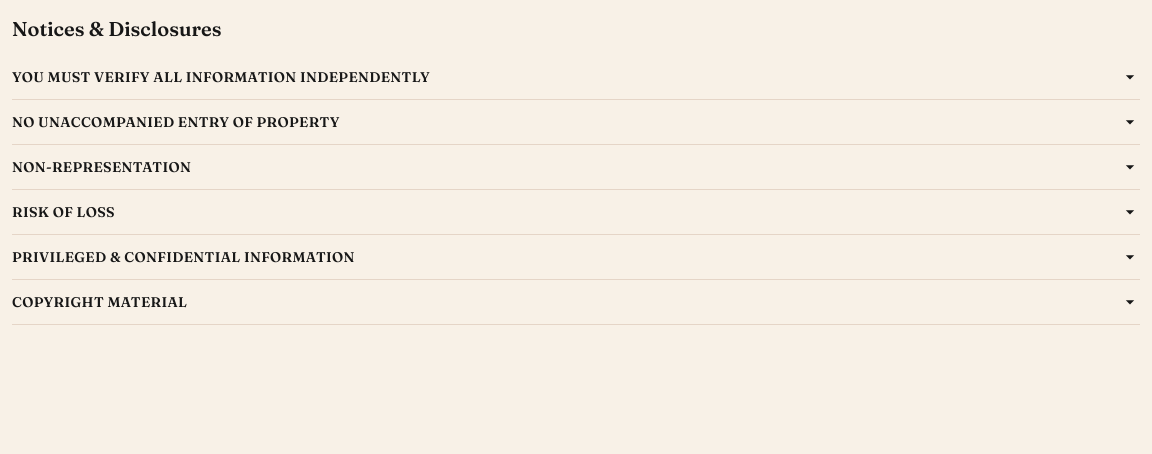
Test: deal notices start closed, open on click, and have no acknowledge control
Expected: the heading "Notices & Disclosures" is shown, [12, 16, 222, 41]
Click the button "YOU MUST VERIFY ALL INFORMATION INDEPENDENTLY": (221, 77) [12, 55, 1140, 99]
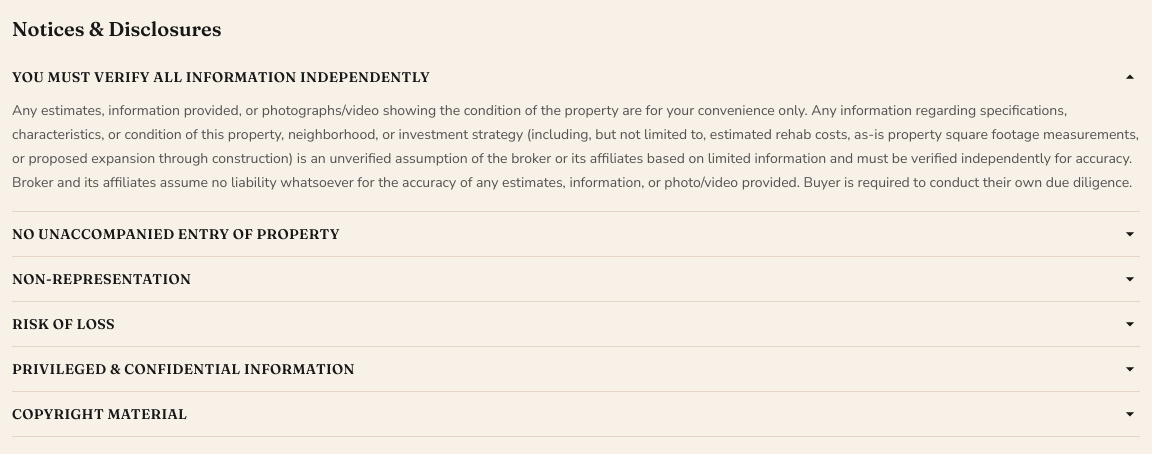
Result: the text "buyer is required to conduct their own due diligence" is shown at [12, 101, 1139, 192]
